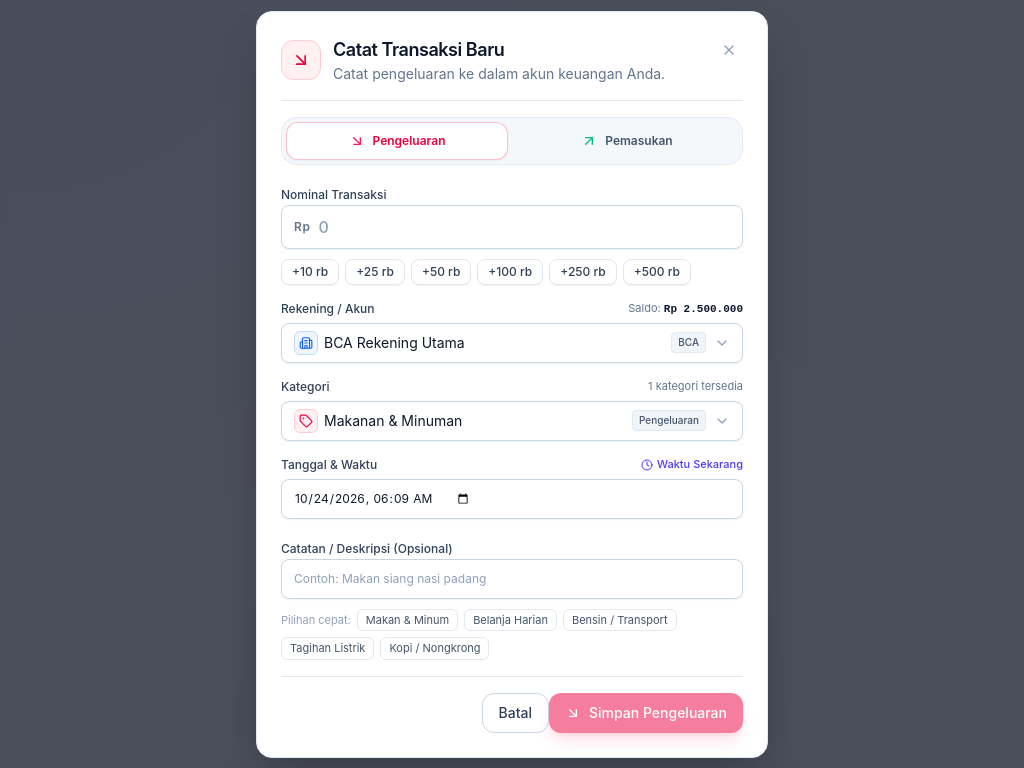
it: TransactionFormDialog › updates nominal on quick chip clicks and displays real-time balance simulation
What coordinates should you click on to do the following:
click the button "+100 rb"
I would click on:
 (510, 272)
Its box is left=477, top=258, right=543, bottom=284.
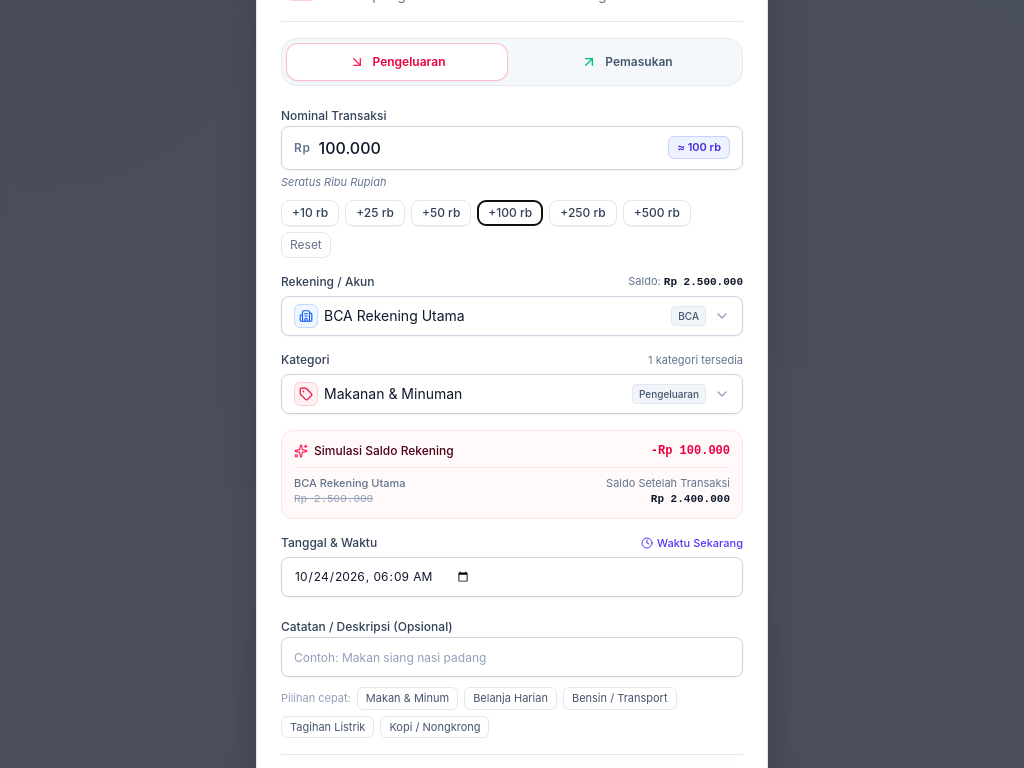
Now the text "Simulasi Saldo Rekening" is shown, box left=314, top=443, right=454, bottom=459
Now the text "Saldo Setelah Transaksi" is shown, box left=606, top=476, right=730, bottom=491
Now the text "Rp 2.400.000" is shown, box left=651, top=493, right=730, bottom=505
